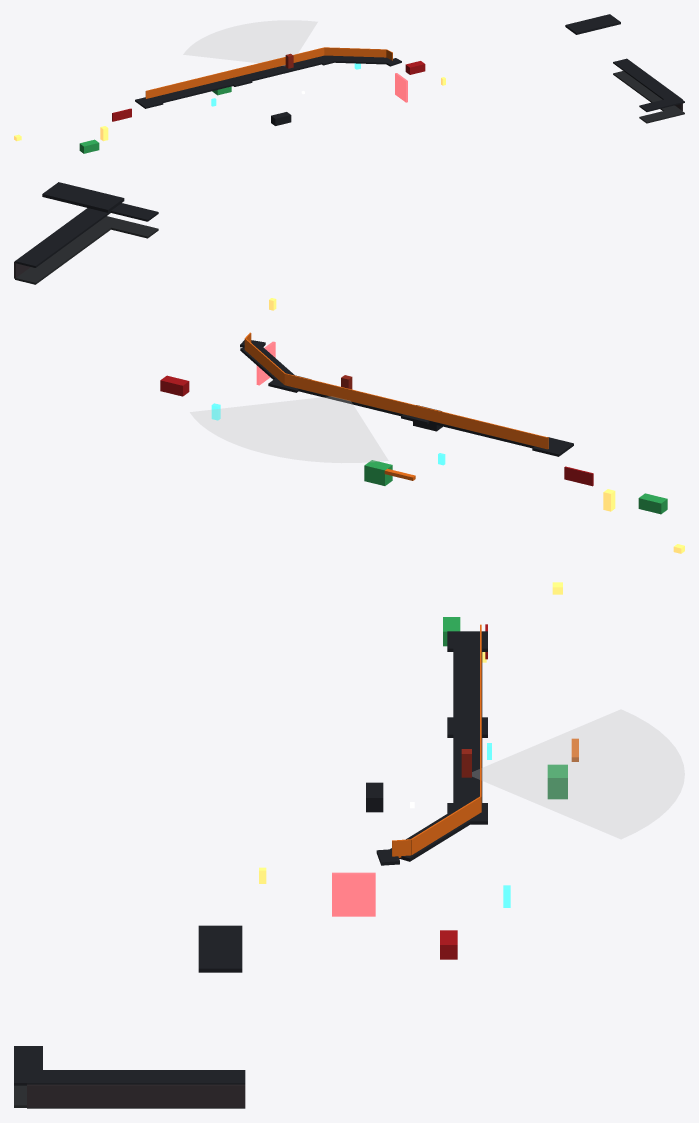
The model's file is EastMicroHub_Live.glb.
The picture shows the model from 3 angles, top to bottom: view 1: azimuth 30°, elevation 25°; view 2: azimuth 150°, elevation 25°; view 3: azimuth 270°, elevation 25°; orthographic projection. The views are drawn at different scales.
Visible parts, largest first — view 1: _MeshInstance3D_55, CrouchRoofNorth, Deck2, Deck4, Deck, Deck3, RoofObservationLedge, Deck6, CrouchFloorNorth, Deck5, CrouchTurnFloor, CrouchTurnRoof (+2 smaller); view 2: _MeshInstance3D_55, CrouchRoofNorth, Deck2, Deck4, CrouchFloorNorth, RoofObservationLedge, CrouchTurnFloor, Generator; view 3: _MeshInstance3D_55, CrouchOuterWall, CrouchRoofNorth, Deck, RoofObservationLedge, Deck3, _MeshInstance3D_14, Deck6, CrouchTurnRoof.
Part boxes in pixels (x1,y1,x2,y2): _MeshInstance3D_55: [183, 20, 317, 65]; CrouchRoofNorth: [613, 58, 682, 102]; Deck2: [145, 69, 235, 98]; Deck4: [235, 47, 324, 77]; Deck: [146, 77, 238, 103]; Deck3: [236, 55, 330, 81]; RoofObservationLedge: [565, 14, 620, 34]; Deck6: [324, 47, 386, 57]; CrouchFloorNorth: [613, 71, 682, 111]; Deck5: [327, 56, 389, 64]; CrouchTurnFloor: [639, 107, 684, 123]; CrouchTurnRoof: [639, 96, 684, 111]; _MeshInstance3D_55: [190, 396, 388, 462]; CrouchRoofNorth: [15, 208, 110, 267]; Deck2: [416, 405, 548, 449]; Deck4: [284, 373, 416, 417]; CrouchFloorNorth: [15, 219, 116, 284]; RoofObservationLedge: [42, 182, 124, 212]; CrouchTurnFloor: [97, 216, 158, 238]; Generator: [364, 460, 392, 485]; _MeshInstance3D_55: [472, 709, 684, 838]; CrouchOuterWall: [27, 1084, 245, 1107]; CrouchRoofNorth: [27, 1070, 245, 1084]; Deck: [453, 640, 482, 725]; RoofObservationLedge: [198, 925, 242, 972]; Deck3: [453, 726, 482, 811]; _MeshInstance3D_14: [332, 872, 375, 916]; Deck6: [411, 796, 481, 855]; CrouchTurnRoof: [14, 1046, 42, 1085].
Size of the model in its own units: 83.6 by 9.3 by 46.14.
